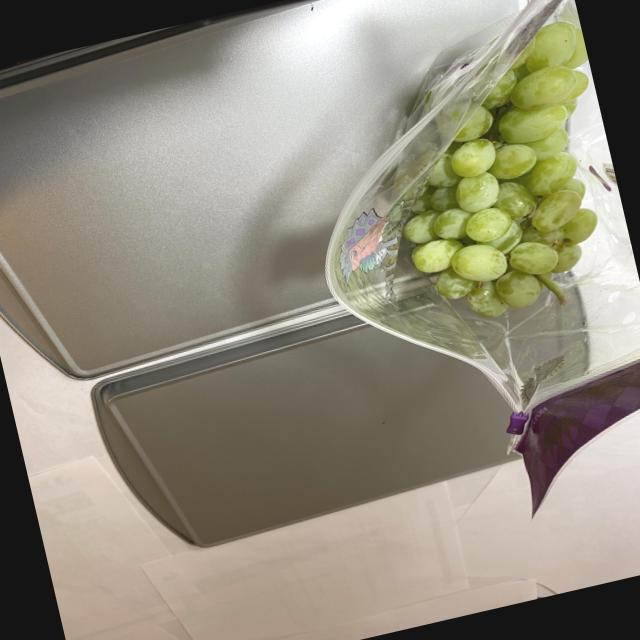grapes: (359, 10, 640, 347)
